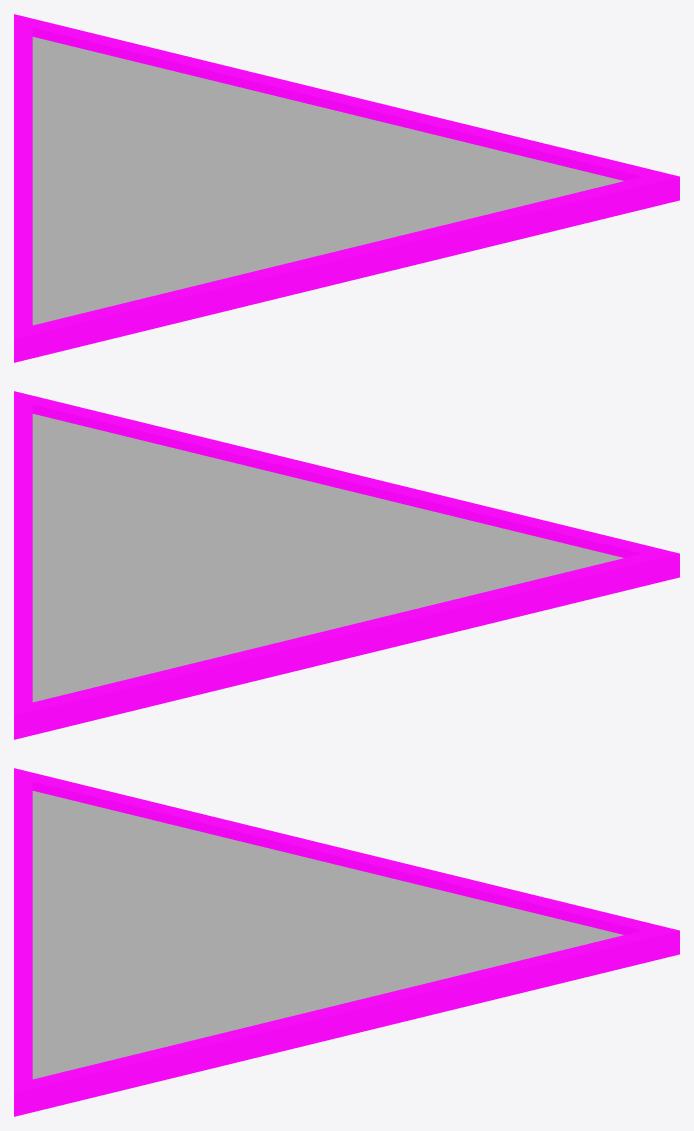
The model's file is SFI0310033.fbx.
3 renders of one model, top to bottom at view 1: azimuth 30°, elevation 25°; view 2: azimuth 150°, elevation 25°; view 3: azimuth 270°, elevation 25°, orthographic.
Parts seen in each view (by area): view 1: smSFI0310033; view 2: smSFI0310033; view 3: smSFI0310033.
Boxes of the visible parts, left/top/right/bottom form: smSFI0310033: left=14, top=14, right=679, bottom=362; smSFI0310033: left=14, top=391, right=679, bottom=739; smSFI0310033: left=14, top=768, right=679, bottom=1116.
Size of the model in its own units: 173 by 5.93 by 150.
